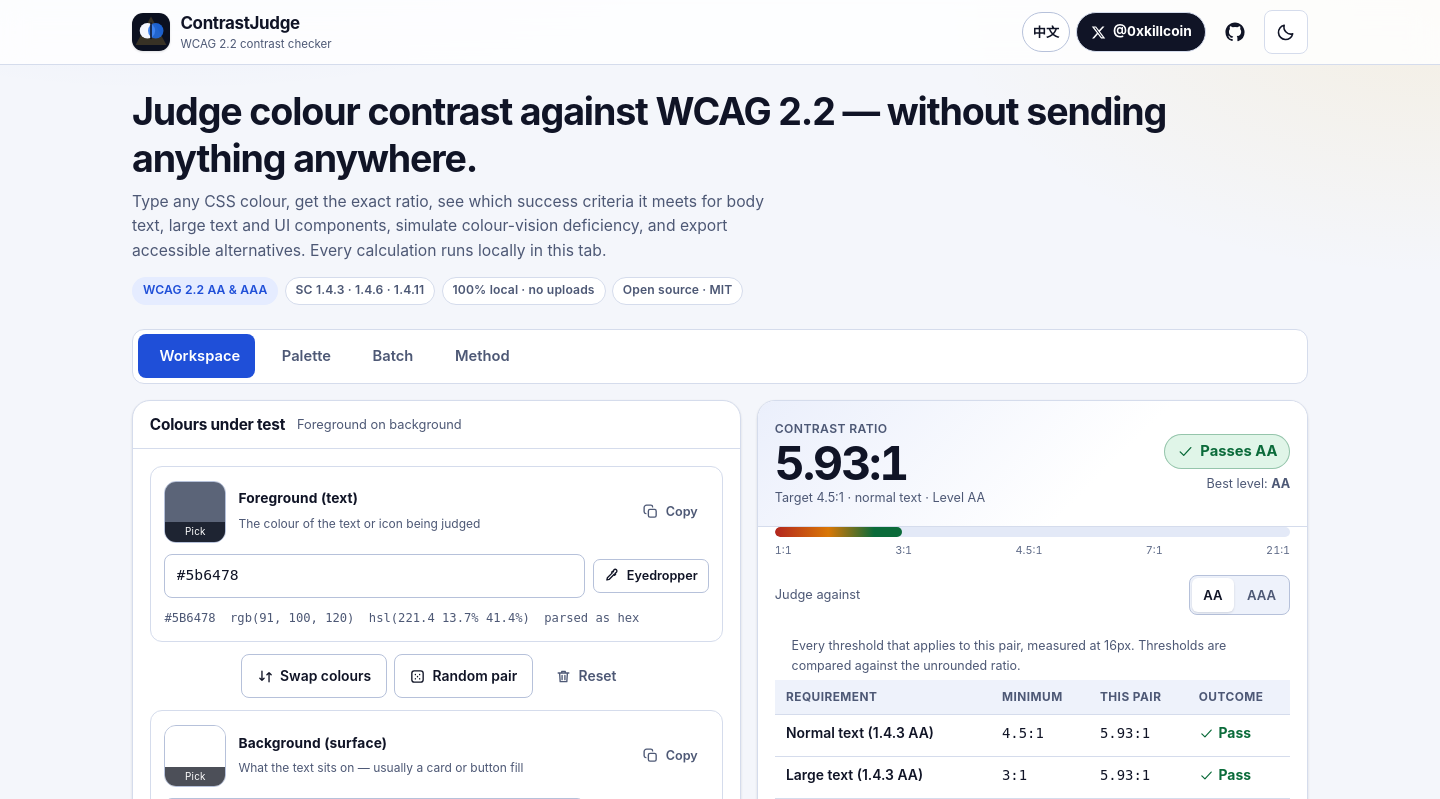
Test: ContrastJudge app shell › switches between AA and AAA thresholds
Click the button with aria-label "level AAA" at [1262, 595], box [1236,578,1287,612]
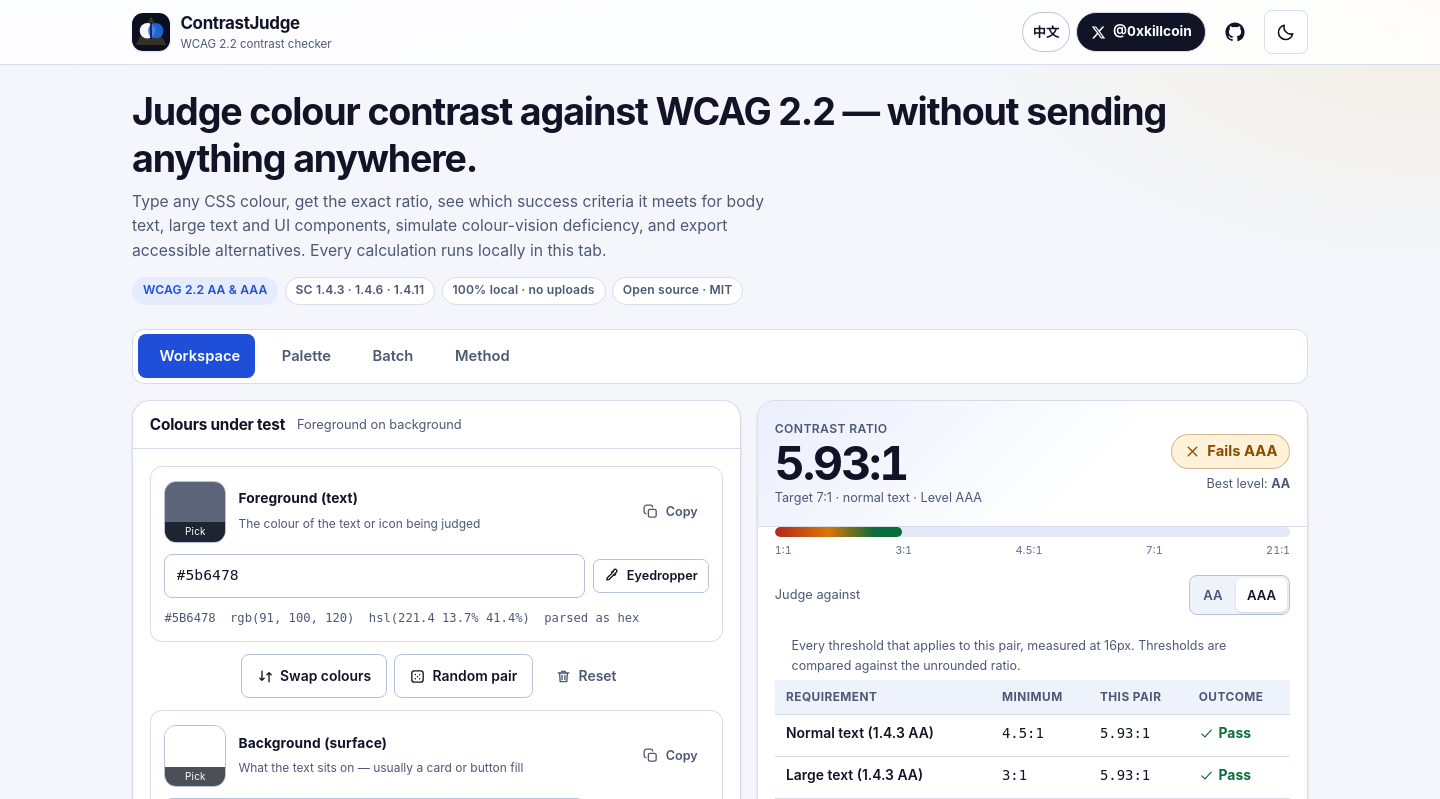
Now the text "Fails AAA" is shown, box [1171,434,1290,469]
